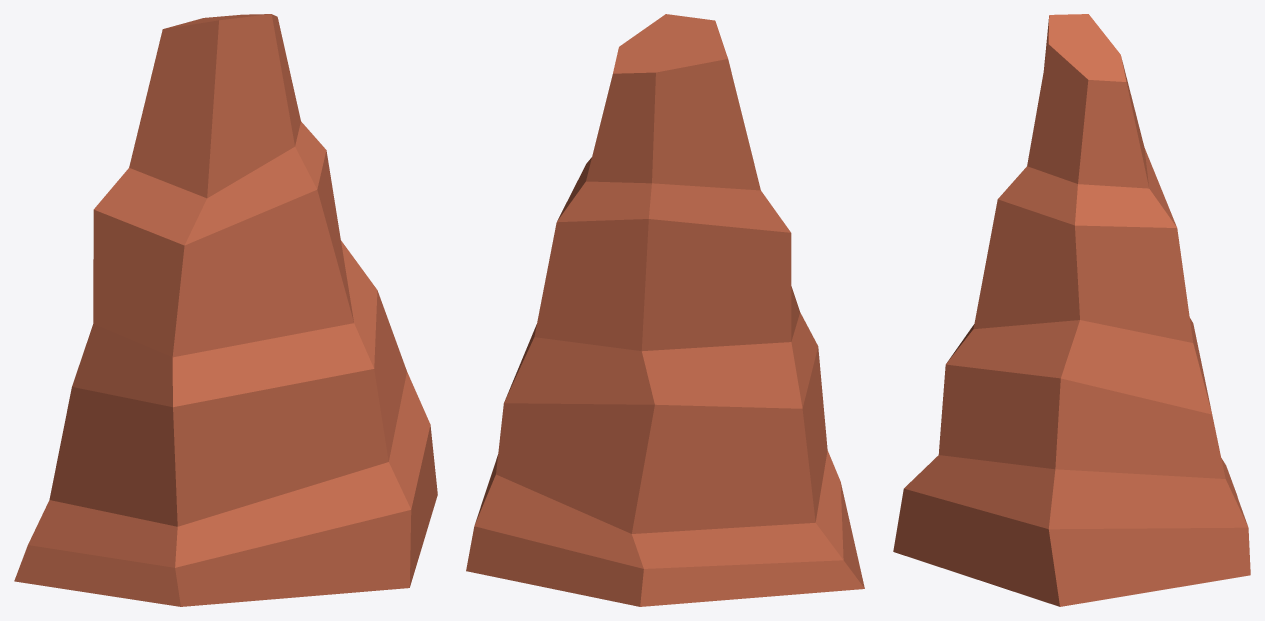
The model's file is Rock_Mesa_Large_3.fbx.
3 views of the same model, side by side, from view 1: azimuth 30°, elevation 25°; view 2: azimuth 150°, elevation 25°; view 3: azimuth 270°, elevation 25° (orthographic). The views are drawn at different scales.
Parts seen in each view (by area): view 1: Rock; view 2: Rock; view 3: Rock.
Part boxes in pixels (left/top/right/bottom): Rock: left=14, top=14, right=437, bottom=606; Rock: left=466, top=14, right=864, bottom=606; Rock: left=893, top=14, right=1250, bottom=606.
Size of the model in its own units: 197 by 248 by 163.
